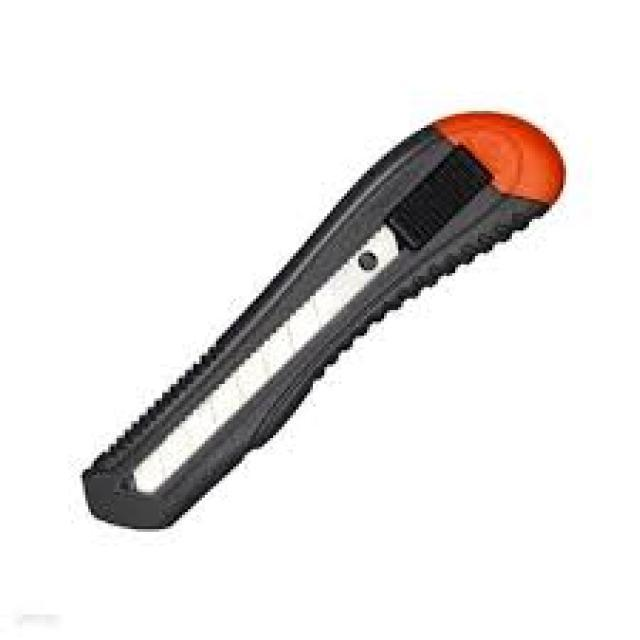cutter: (72, 96, 574, 556)
